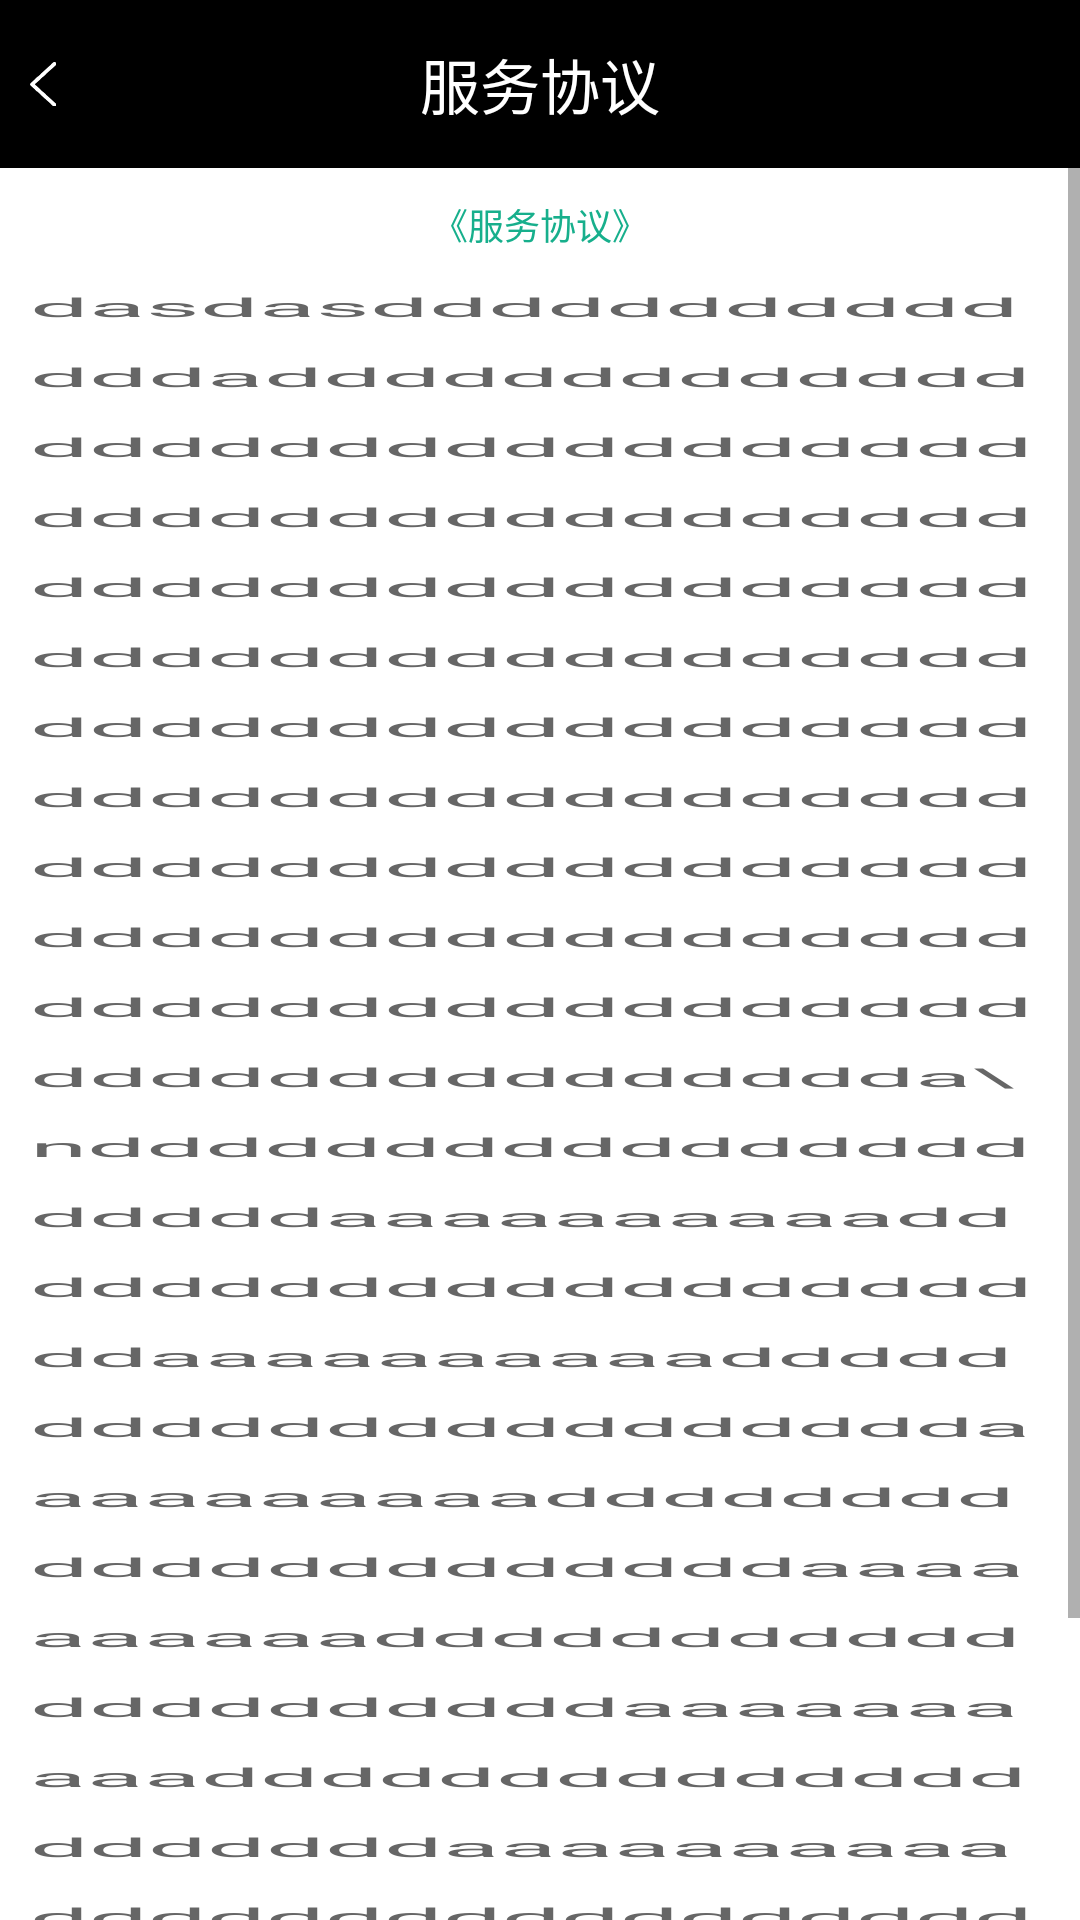

Icons on this 1080px x 1920px Android screen, each with its box as (left=x1, top=y1, right=x2, bottom=y2):
fanhui: (left=30, top=62, right=56, bottom=106)
